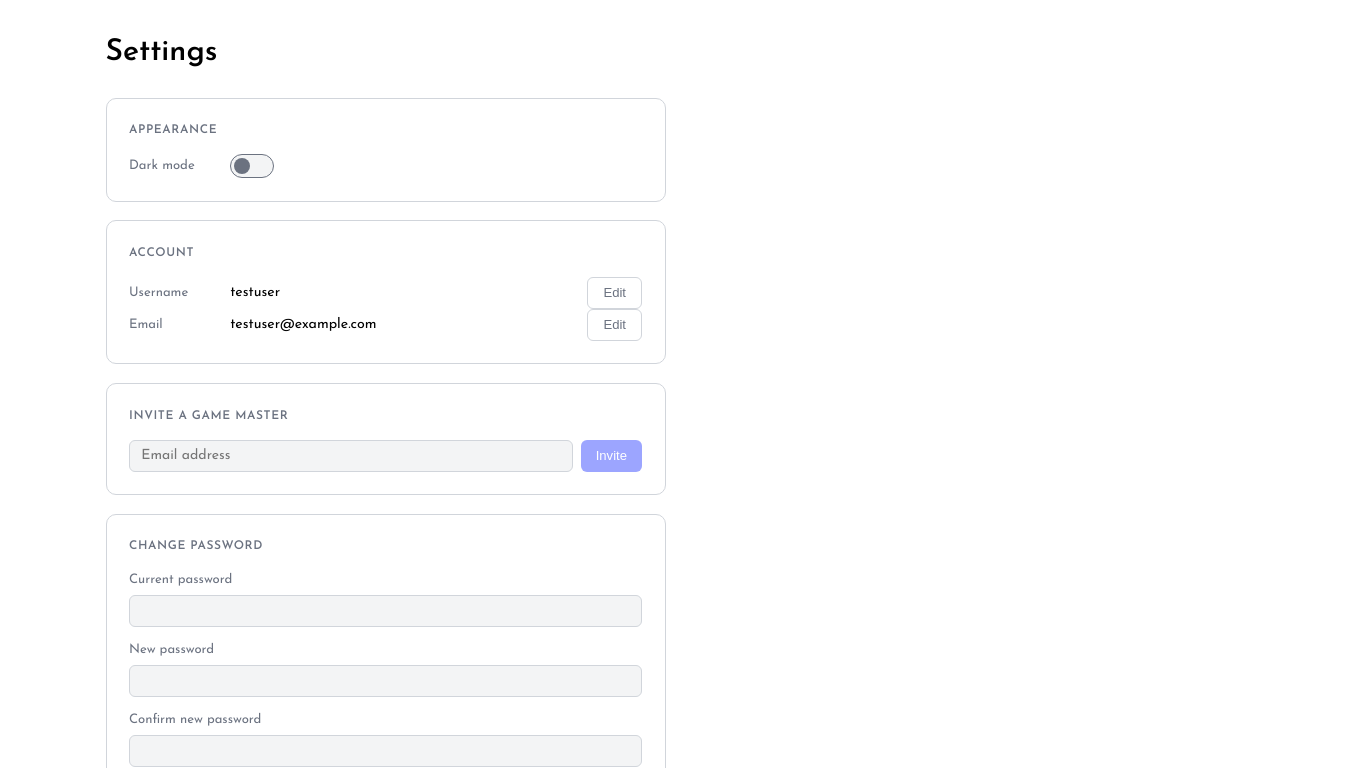
it: username: edit button opens modal, successful save updates displayed value
Check: the text "testuser" is shown, box [230, 285, 280, 300]
Click the button "Edit" in the row of "Username": (615, 293) [587, 277, 642, 309]
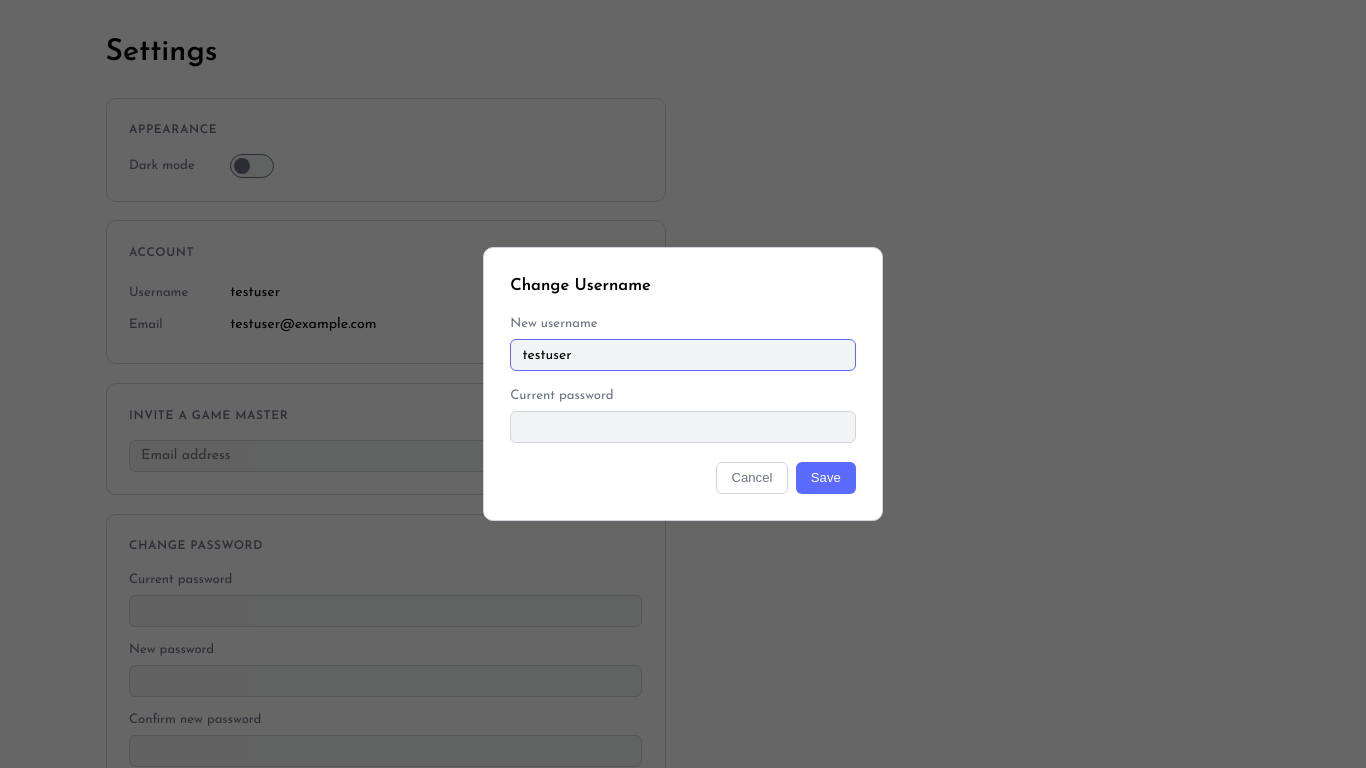
Check: the heading "Change Username" is shown, box [510, 278, 651, 294]
Replace the text in the field labelled "New username" with "renamed": (683, 355) [510, 339, 856, 371]
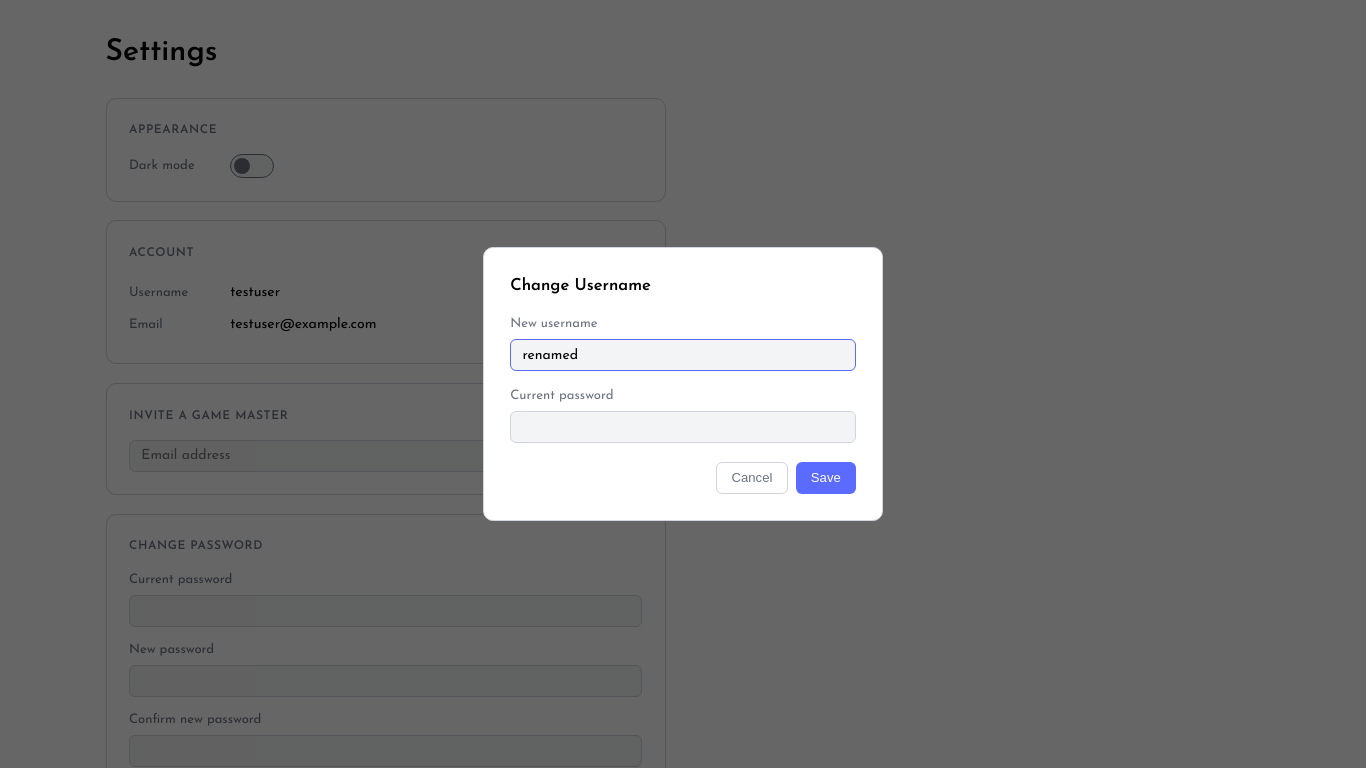
In the password field labelled "Current password": (683, 427) [510, 411, 856, 443], type "testpass"
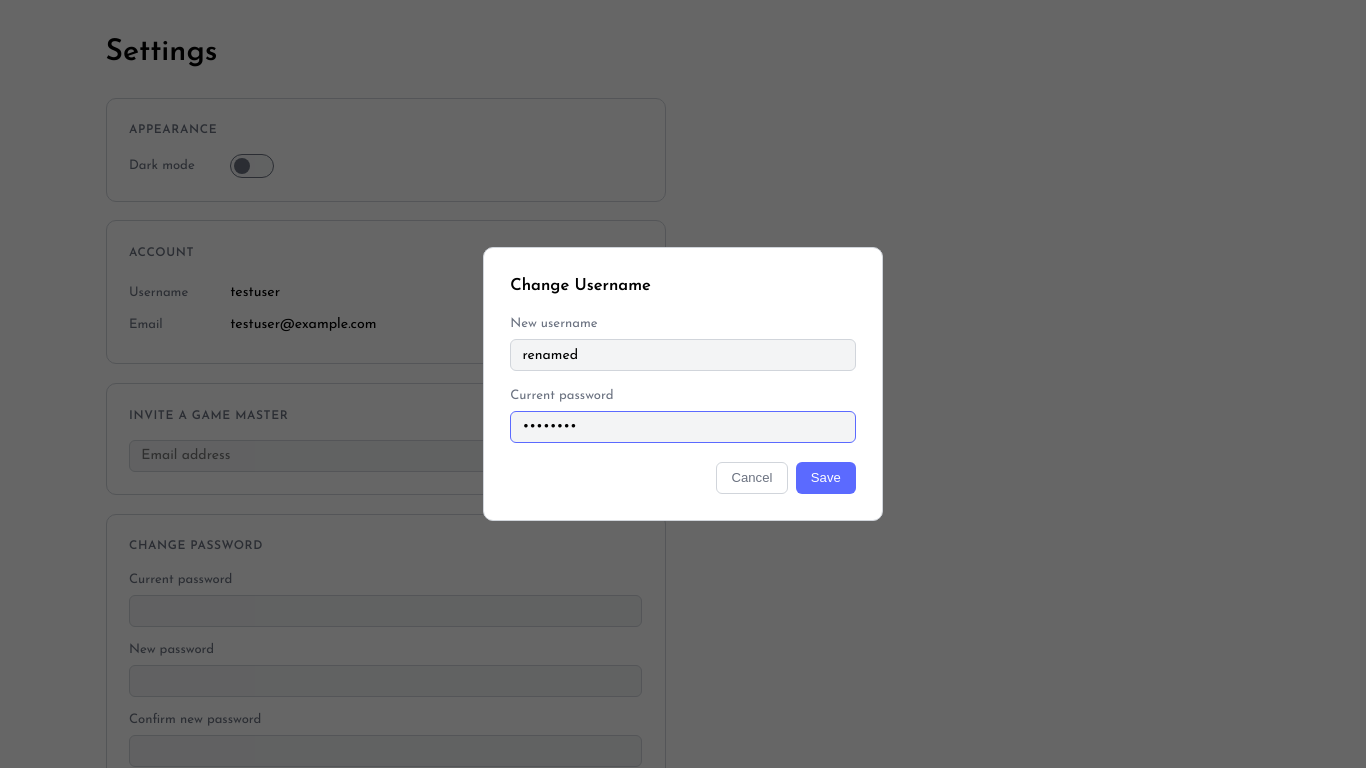
Click the button "Save": (826, 478) [796, 462, 856, 494]
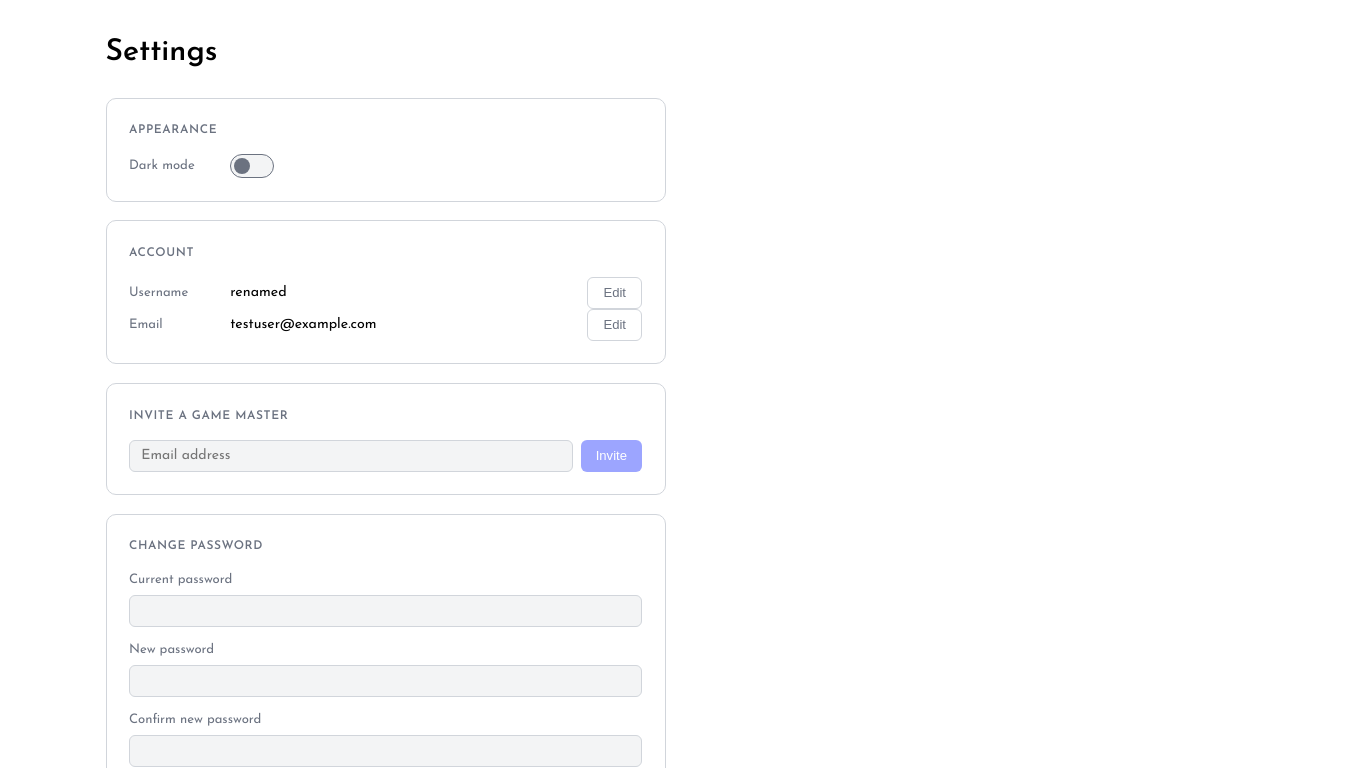
Check: the heading "Change Username" is gone
Check: the text "renamed" is shown, box [230, 285, 287, 300]
